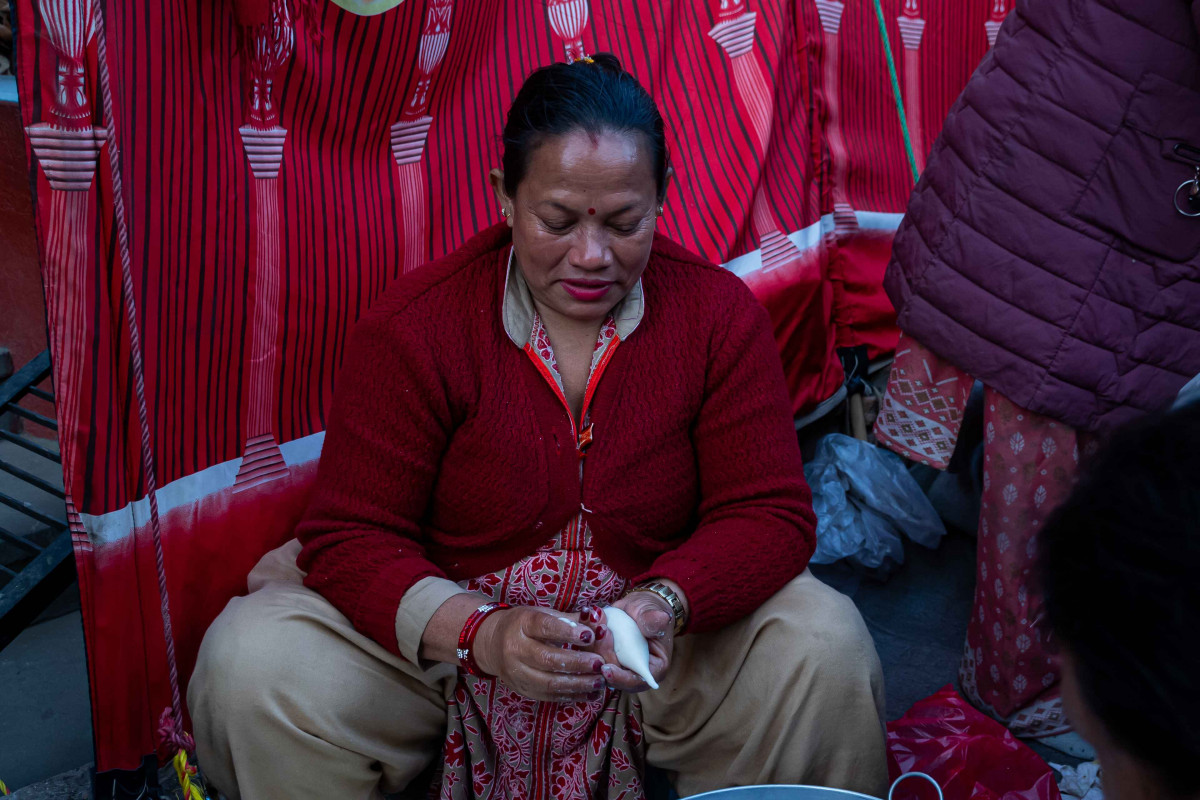yomari: (598, 602, 666, 688)
